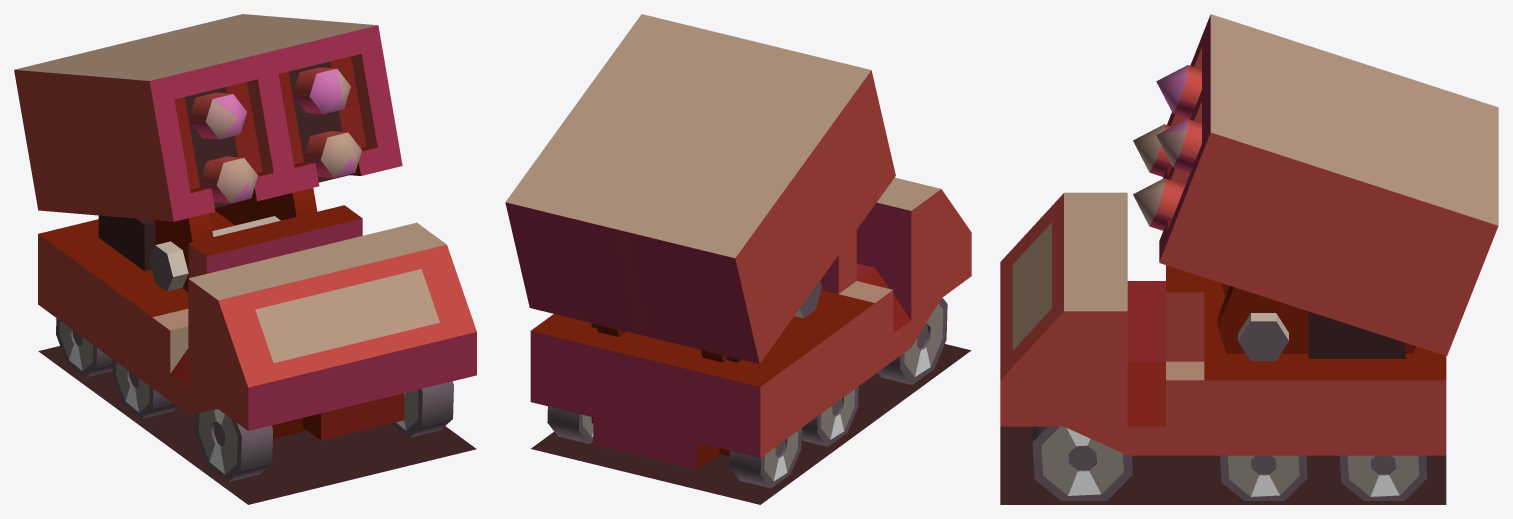
Rendered from RocketMesh.RedFire.glb.
3 renders of one model, left to right at view 1: azimuth 30°, elevation 25°; view 2: azimuth 150°, elevation 25°; view 3: azimuth 270°, elevation 25°, orthographic. The views are drawn at different scales.
Visible parts, largest first — view 1: RocketMesh.RedFire; view 2: RocketMesh.RedFire; view 3: RocketMesh.RedFire.
Part boxes in pixels (x1=…): RocketMesh.RedFire: x1=14, y1=14, x2=476, y2=504; RocketMesh.RedFire: x1=505, y1=14, x2=971, y2=504; RocketMesh.RedFire: x1=1000, y1=14, x2=1498, y2=504.
Size of the model in its own units: 1.1 by 1.63 by 1.96.
1 material, 1 textured.
